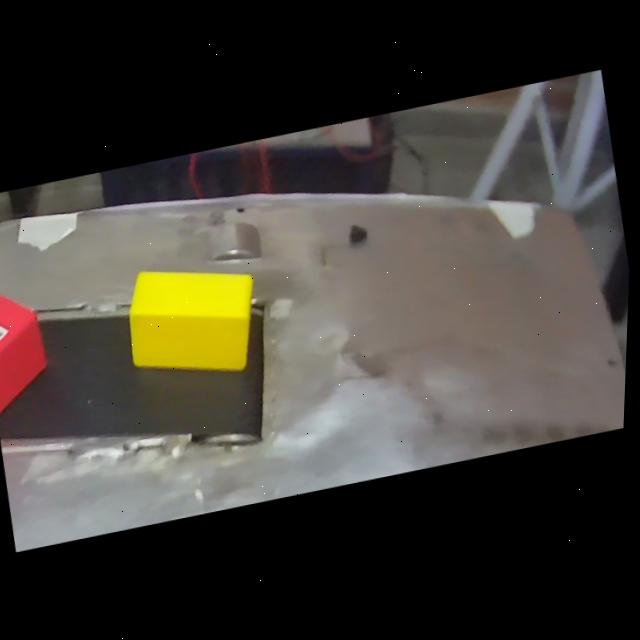redBox: (0, 278, 71, 442)
yellowBox: (115, 245, 277, 398)
